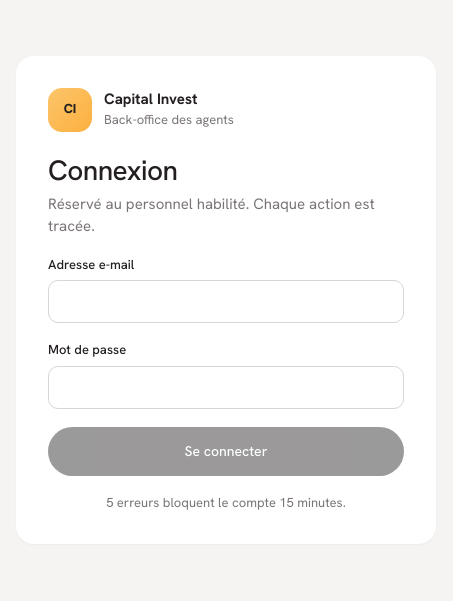
Test: connexion › affiche une erreur claire si le mot de passe est faux
Type "kyc@capitalinvest.cd" into the field labelled "Adresse e-mail".
click(226, 302); type("kyc@capitalinvest.cd")  # box 48,280 -> 404,324
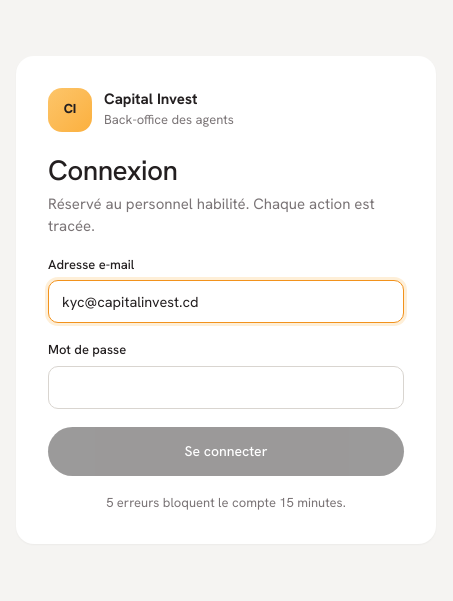
Type "pas-le-bon-mot" into the password field labelled "Mot de passe".
click(226, 388); type("pas-le-bon-mot")  # box 48,366 -> 404,409
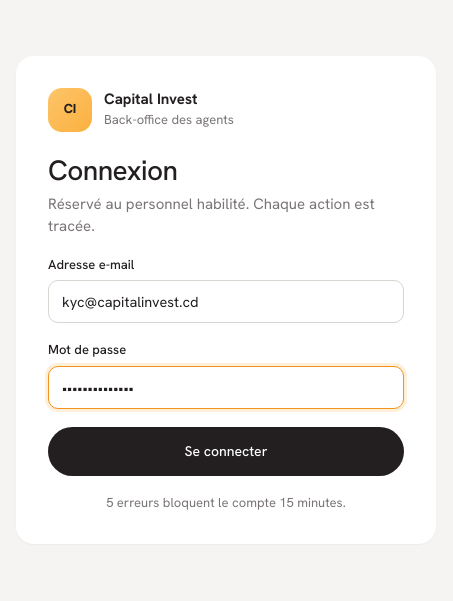
Click the button "Se connecter".
click(226, 451)  # box 48,427 -> 404,476
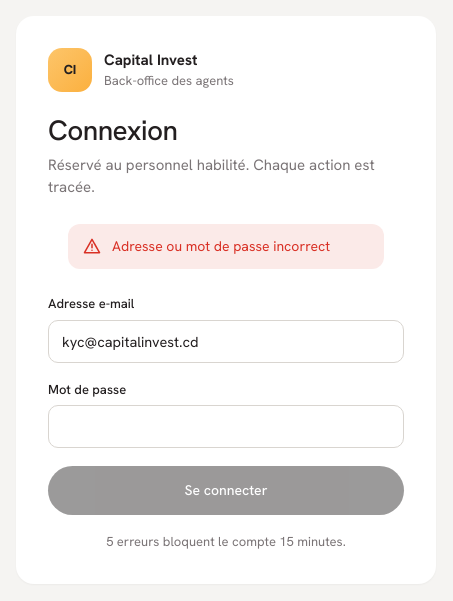
expect the message reads "Adresse ou mot de passe incorrect": met, box 112,238 -> 330,256
expect the password field labelled "Mot de passe" is empty: met, box 48,406 -> 404,448
